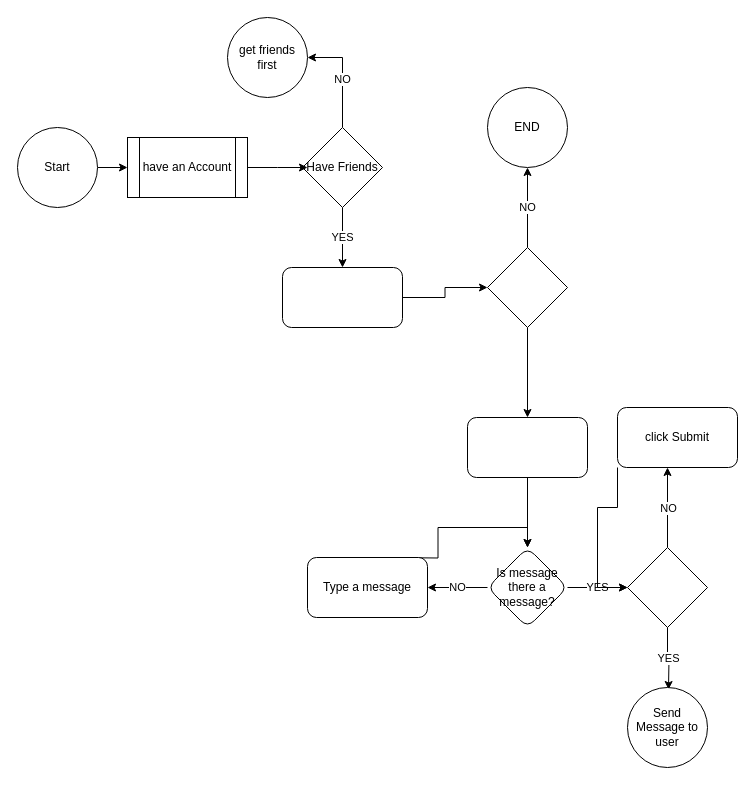
The diagram is 755 pixels wide and 785 high, and some of its shapes have lost their labels. Here are the shapes that lost their labels. From the top down, the centre of each, then its label:
the point at 342,297: Show friends list
the point at 527,287: want to Message Frinds?
the point at 527,447: Open Messenger
the point at 667,587: Submit?
